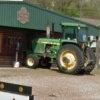Tractor: (18, 18, 100, 81)
